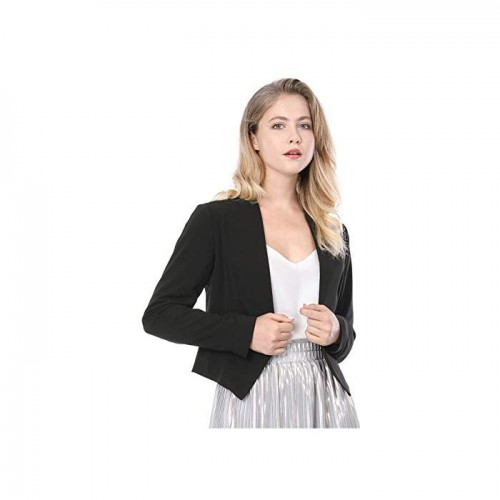F_W_suit jacket: (139, 188, 370, 392)
